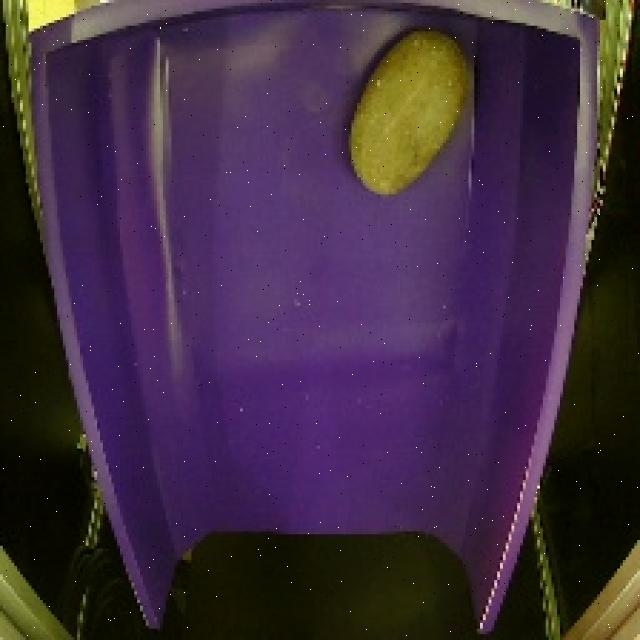cobbles: (331, 17, 485, 207)
